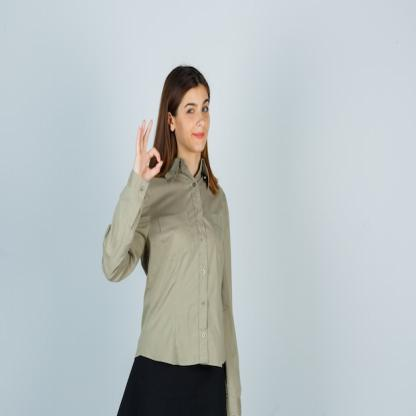ok: (134, 116, 166, 184)
